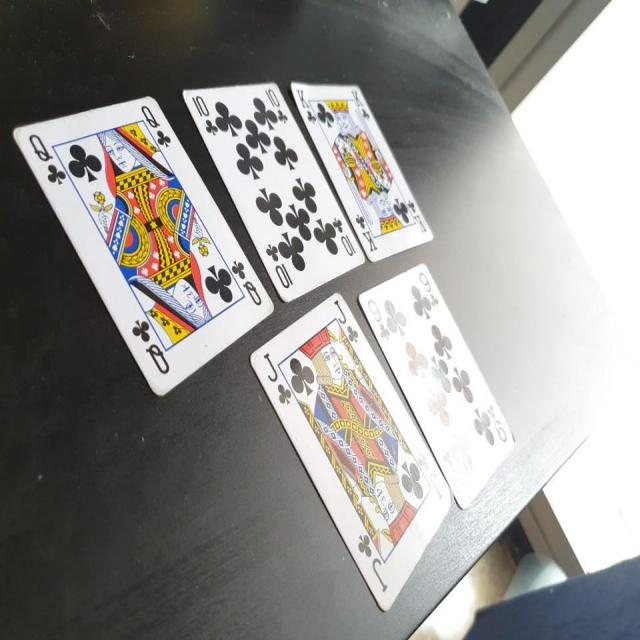10 Trefoils: (182, 79, 368, 304)
9 Trefoils: (355, 257, 519, 508)
J Trefoils: (248, 292, 449, 610)
K Trefoils: (289, 77, 436, 263)
Q Trefoils: (11, 96, 274, 402)
